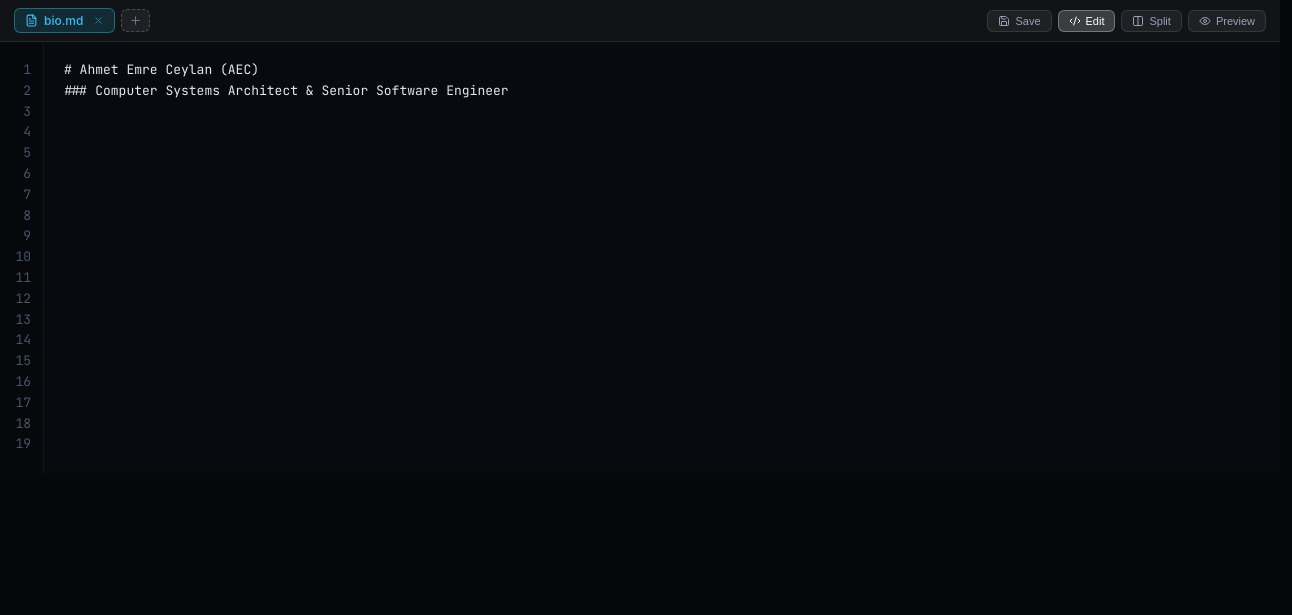
Test: MarkdownViewerApp Component › should automatically open files in edit mode by default and switch between Edit, Preview, and Split modes
expect the text box with test id "markdown-raw-view" is shown: met, box [44,42,1280,120]
Note: Switch to preview mode
Click the button "Preview": (1227, 20) [1188,10,1266,32]
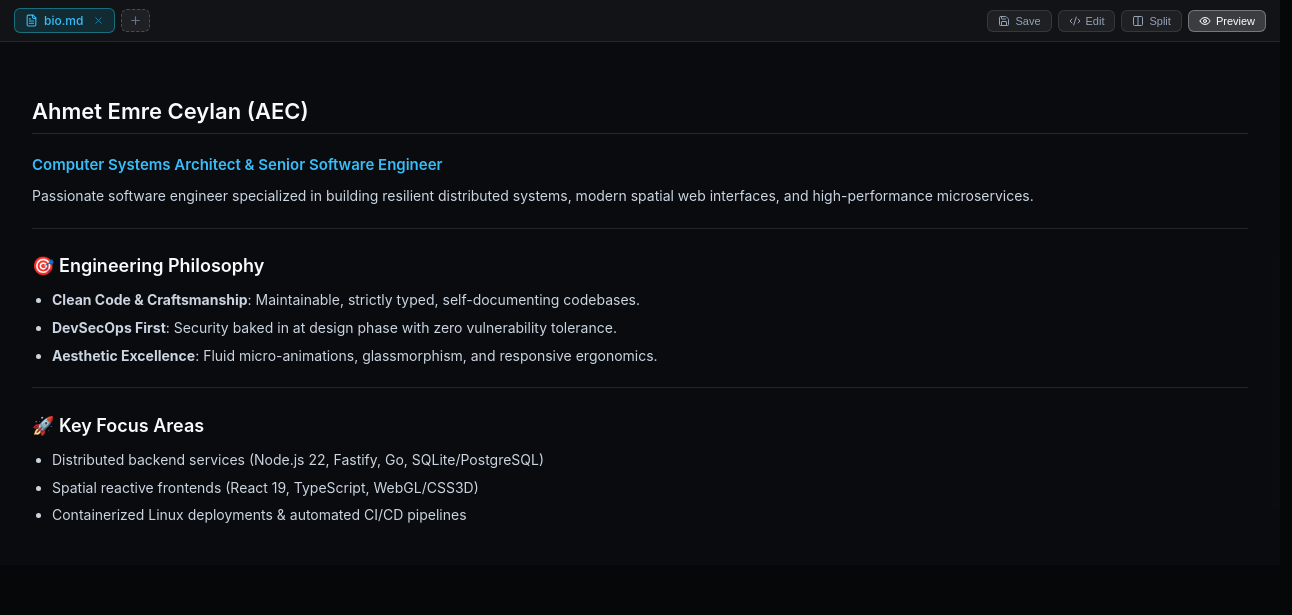
expect the element with test id "markdown-rendered-view" is shown: met
expect the text box with test id "markdown-raw-view" is gone: met
Note: Switch to split mode
Click the button "Split": (1152, 20) [1122,10,1182,32]
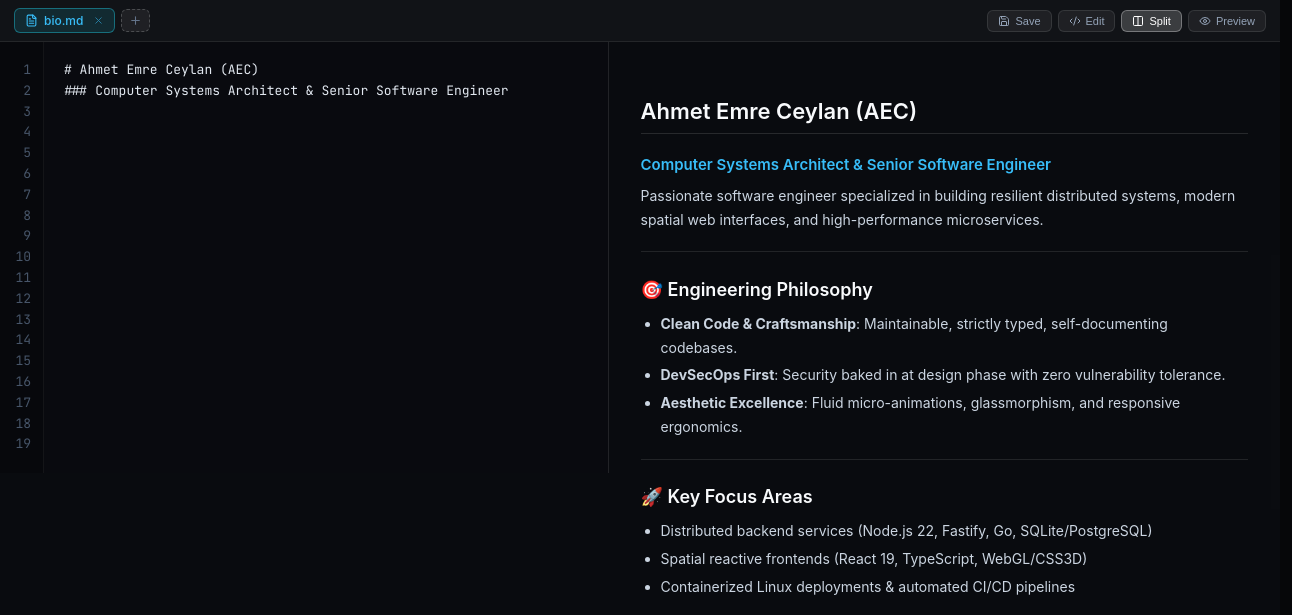
expect the element with test id "markdown-rendered-view" is shown: met, box [640,97,1248,599]
expect the text box with test id "markdown-raw-view" is shown: met, box [44,42,608,120]
Note: Switch back to edit mode
Click the button "Edit": (1086, 20) [1058,10,1116,32]
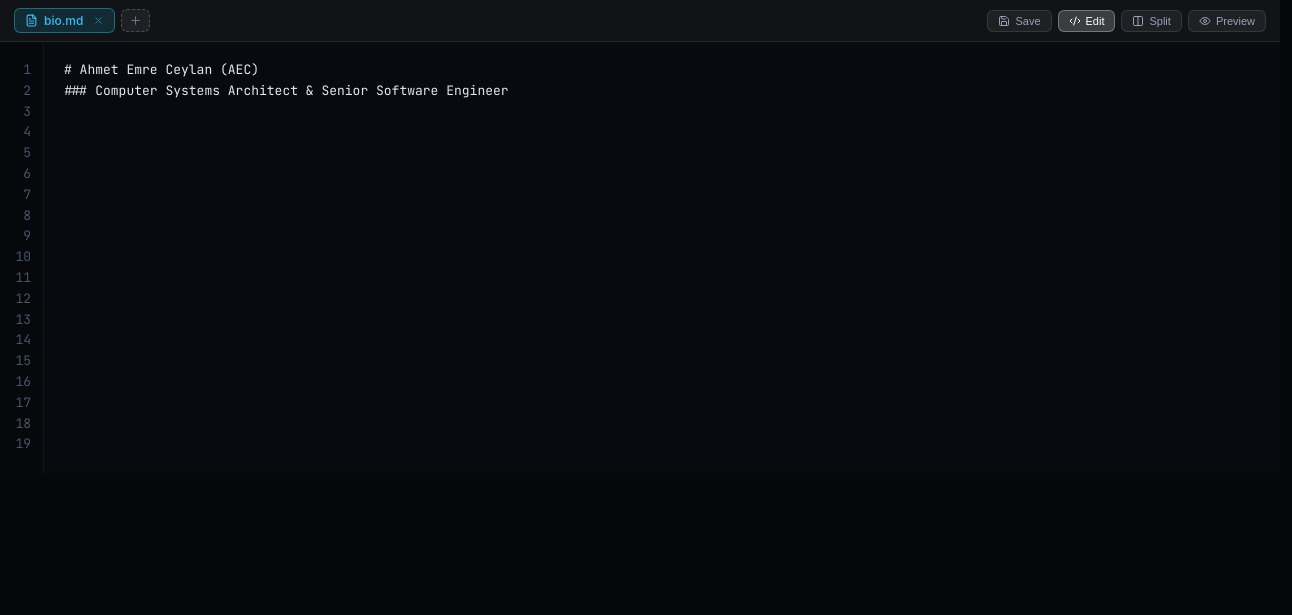
expect the text box with test id "markdown-raw-view" is shown: met, box [44,42,1280,120]
expect the element with test id "markdown-rendered-view" is gone: met
